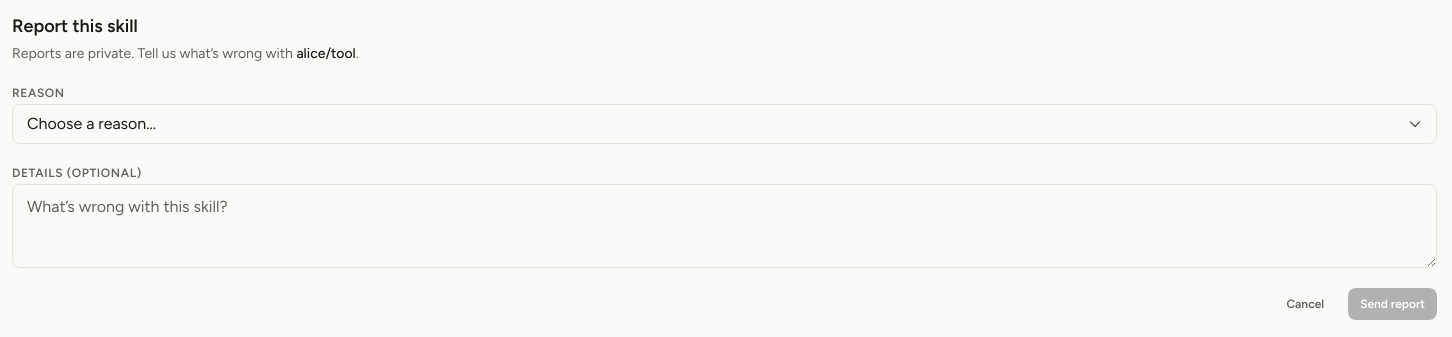
Test: ReportDialogForm › requires text for the "other" category
This screenshot has width=1452, height=337.
Select "Something else" in the dropdown: [724, 124] box left=12, top=104, right=1437, bottom=144
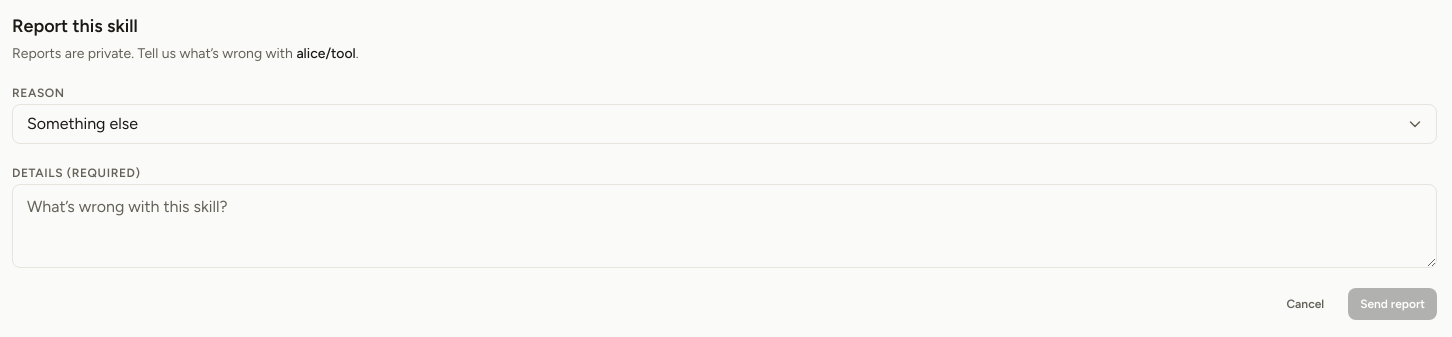
Check: the button "Send report" is disabled, box left=1348, top=288, right=1437, bottom=320
In the text box with placeholder "What’s wrong with this skill?": [724, 226] box left=12, top=184, right=1437, bottom=268, type "it impersonates a brand"
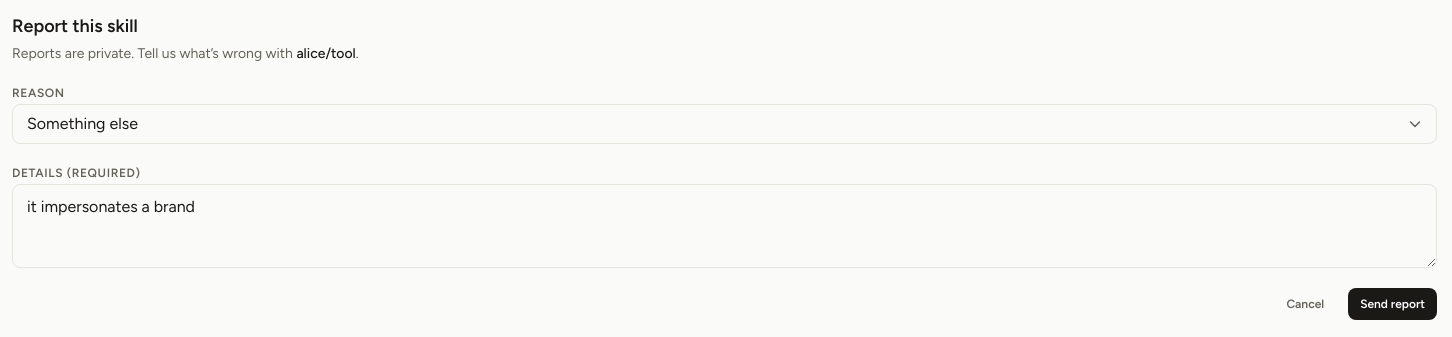
Check: the button "Send report" is enabled, box left=1348, top=288, right=1437, bottom=320
